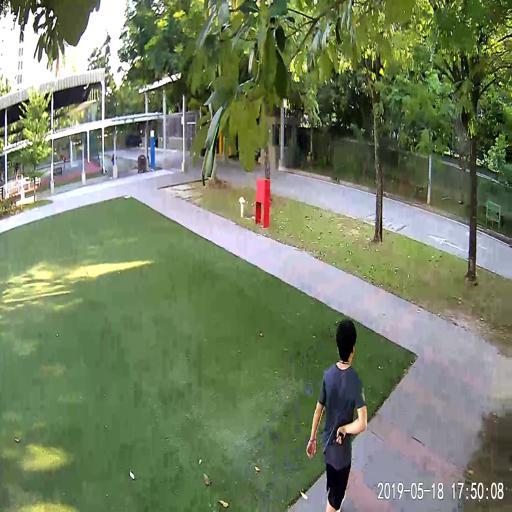Handgun: (321, 424, 342, 455)
